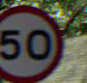Speed limit: (2, 7, 67, 81)
